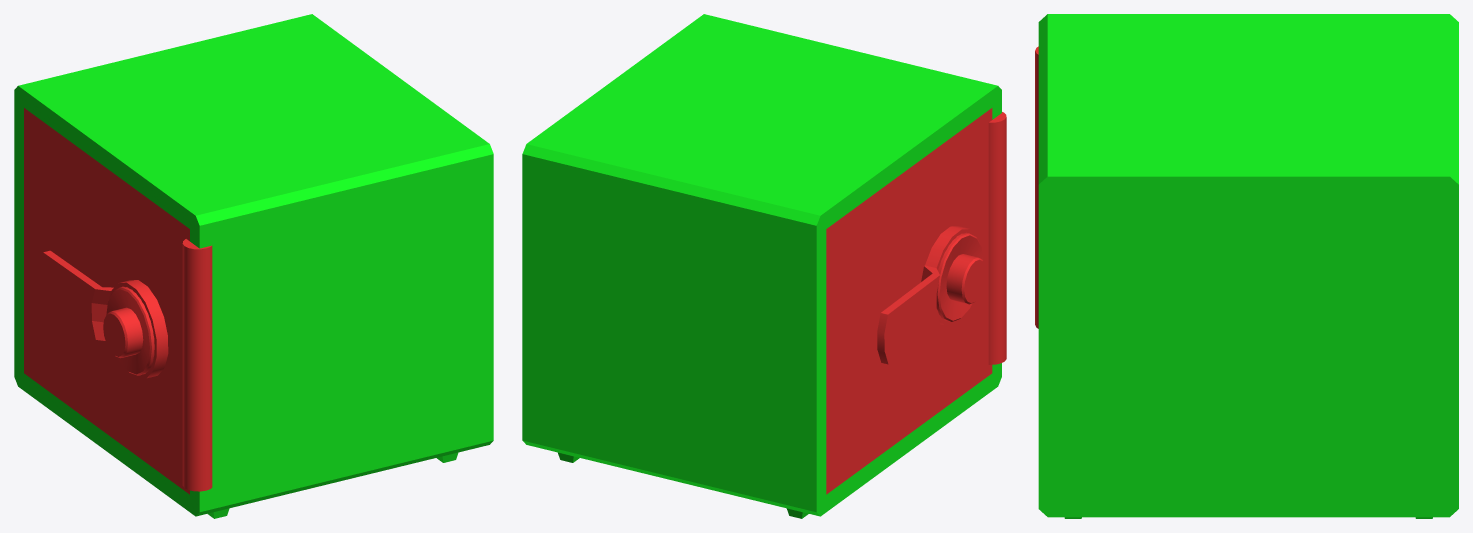
The model's file is Safe.FBX.
The picture shows the model from 3 angles, left to right: view 1: azimuth 30°, elevation 25°; view 2: azimuth 150°, elevation 25°; view 3: azimuth 270°, elevation 25°; orthographic projection. The views are drawn at different scales.
Visible parts, largest first — view 1: SafeBox_LP, SafeDoor_LP, SafeKnob_LP; view 2: SafeBox_LP, SafeDoor_LP, SafeKnob_LP; view 3: SafeBox_LP, SafeDoor_LP.
Boxes of the visible parts, <box> form: SafeBox_LP: <box>14,14,493,518</box>; SafeDoor_LP: <box>24,108,212,494</box>; SafeKnob_LP: <box>103,286,154,375</box>; SafeBox_LP: <box>522,14,1001,518</box>; SafeDoor_LP: <box>826,108,1006,494</box>; SafeKnob_LP: <box>936,232,986,321</box>; SafeBox_LP: <box>1038,14,1458,518</box>; SafeDoor_LP: <box>1035,46,1038,328</box>.
Bounding box in the file's own units: 127 × 118 × 127.
